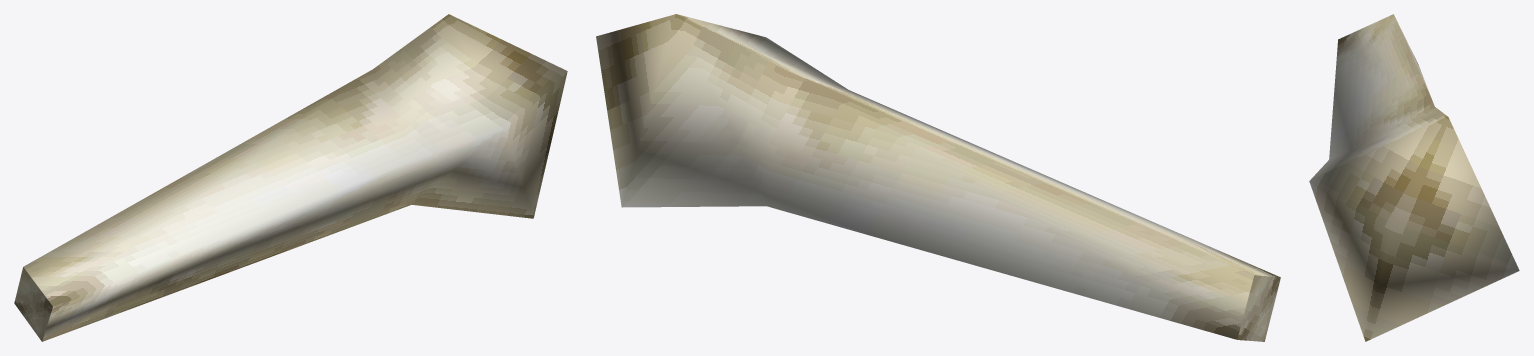
File: bone02.obj
3 renders of one model, left to right at view 1: azimuth 30°, elevation 25°; view 2: azimuth 150°, elevation 25°; view 3: azimuth 270°, elevation 25°, orthographic. The views are drawn at different scales.
Parts seen in each view (by area): view 1: bone02; view 2: bone02; view 3: bone02.
Boxes of the visible parts, x1,y1,x2,y2 form: bone02: (14, 14, 567, 341); bone02: (596, 14, 1280, 341); bone02: (1309, 14, 1519, 341).
Size of the model in its own units: 0.505 by 0.169 by 0.1582.
1 material, 1 textured.
